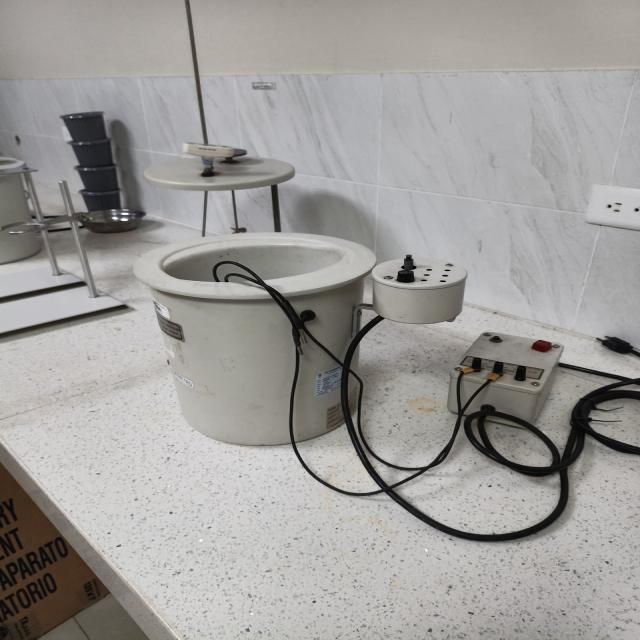Bomba Calorimetrica de Oxigeno: (135, 233, 375, 446), (374, 255, 465, 324), (293, 342, 342, 441)
